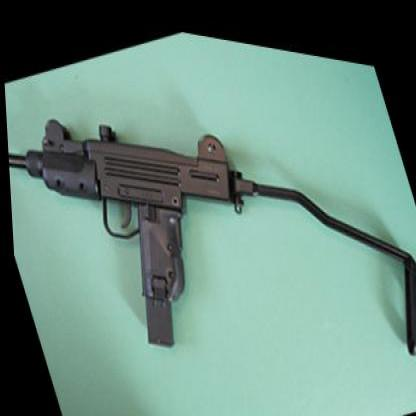pistol: (1, 28, 276, 415)
